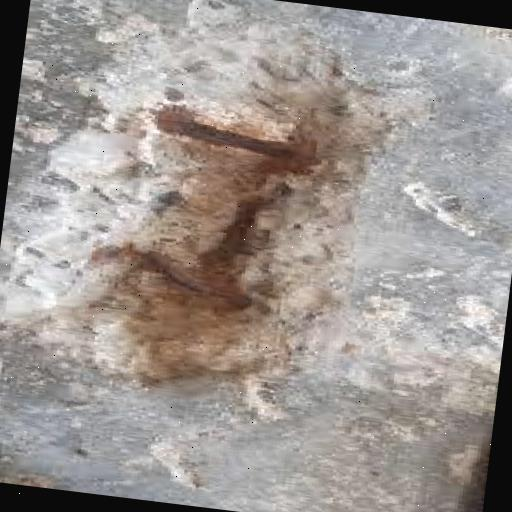spalling: (55, 65, 400, 385)
